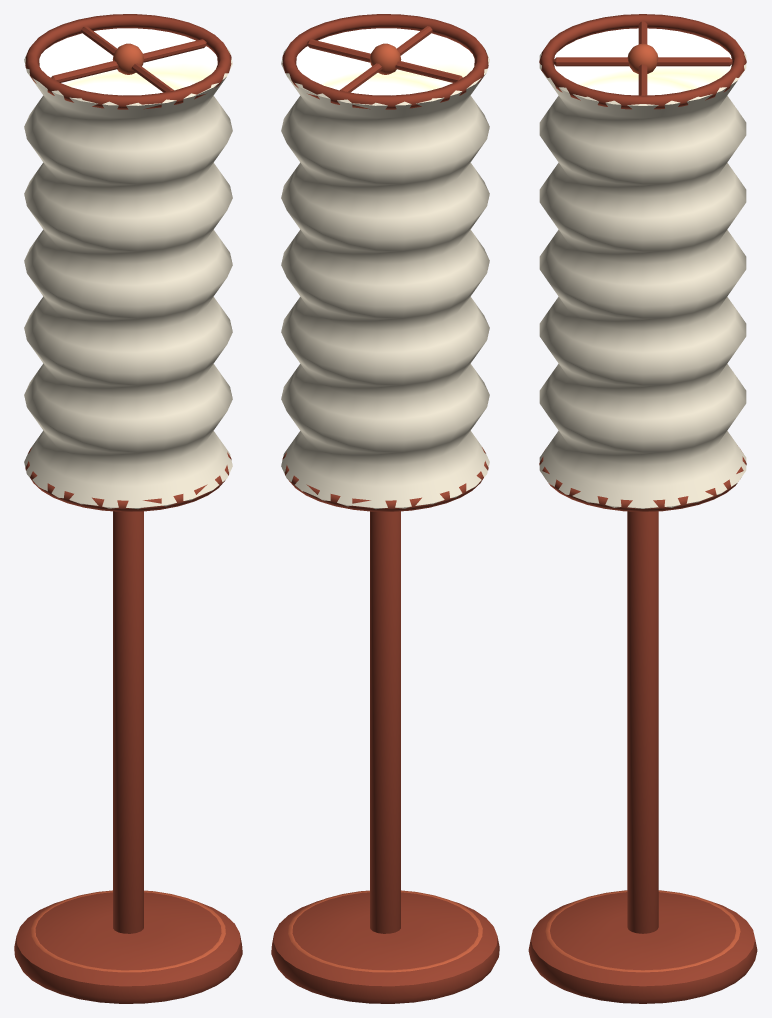
Rendered from luminaria_chao_lanterna.glb.
3 renders of one model, left to right at view 1: azimuth 30°, elevation 25°; view 2: azimuth 150°, elevation 25°; view 3: azimuth 270°, elevation 25°, orthographic.
Visible parts, largest first — view 1: luminaria_chao_lanterna; view 2: luminaria_chao_lanterna; view 3: luminaria_chao_lanterna.
Part boxes in pixels (bbox=[...]): luminaria_chao_lanterna: bbox=[14, 14, 242, 1003]; luminaria_chao_lanterna: bbox=[271, 14, 499, 1003]; luminaria_chao_lanterna: bbox=[528, 14, 757, 1003].
Bounding box in the file's own units: 0.32 × 1.41 × 0.32.
2 materials, 1 textured.
